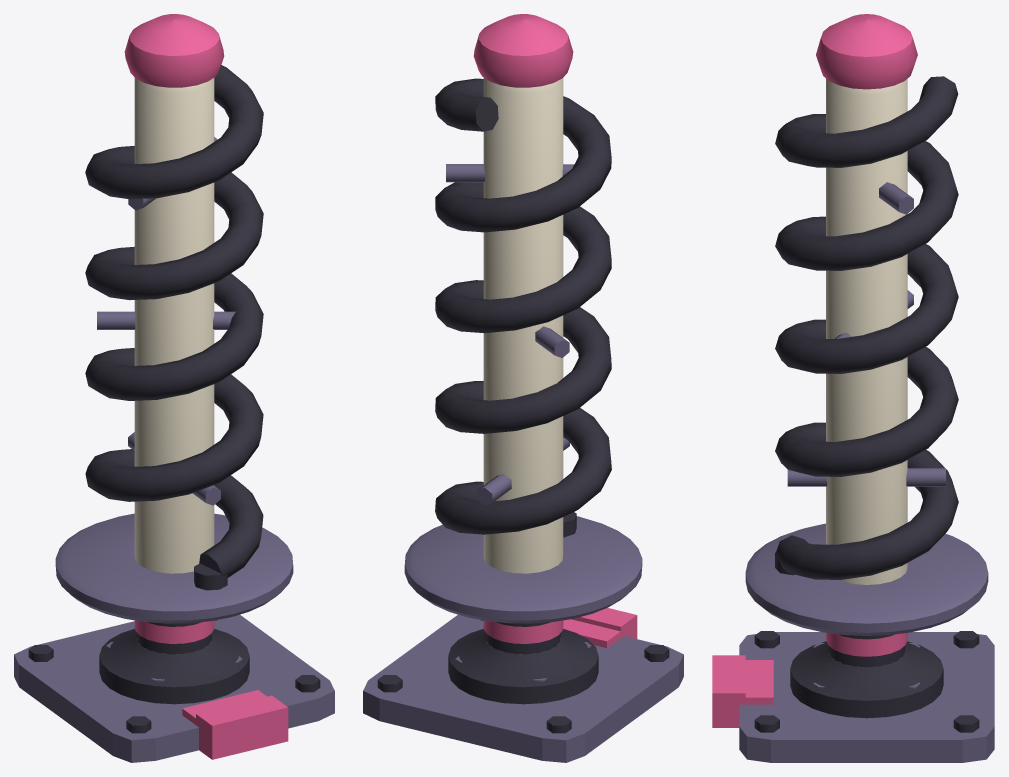
Rendered from antenna_omni.glb.
The picture shows the model from 3 angles, left to right: view 1: azimuth 30°, elevation 25°; view 2: azimuth 150°, elevation 25°; view 3: azimuth 270°, elevation 25°; orthographic projection. The views are drawn at different scales.
Parts seen in each view (by area): view 1: antenna_Graphite, antenna_PurpleGrey, antenna_CreamHull, antenna_Pink; view 2: antenna_Graphite, antenna_PurpleGrey, antenna_CreamHull, antenna_Pink; view 3: antenna_Graphite, antenna_PurpleGrey, antenna_CreamHull, antenna_Pink.
Part boxes in pixels (bbox=[...]): antenna_Graphite: bbox=[28, 65, 320, 733]; antenna_PurpleGrey: bbox=[14, 137, 334, 762]; antenna_CreamHull: bbox=[134, 78, 214, 573]; antenna_Pink: bbox=[124, 14, 288, 759]; antenna_Graphite: bbox=[377, 78, 669, 733]; antenna_PurpleGrey: bbox=[363, 164, 683, 762]; antenna_CreamHull: bbox=[483, 78, 563, 573]; antenna_Pink: bbox=[473, 14, 637, 648]; antenna_Graphite: bbox=[754, 76, 979, 732]; antenna_PurpleGrey: bbox=[739, 182, 994, 762]; antenna_CreamHull: bbox=[826, 78, 907, 584]; antenna_Pink: bbox=[712, 14, 917, 727].
Size of the model in its own units: 0.2 by 0.595 by 0.221.
